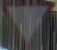Give way: (5, 2, 55, 48)
